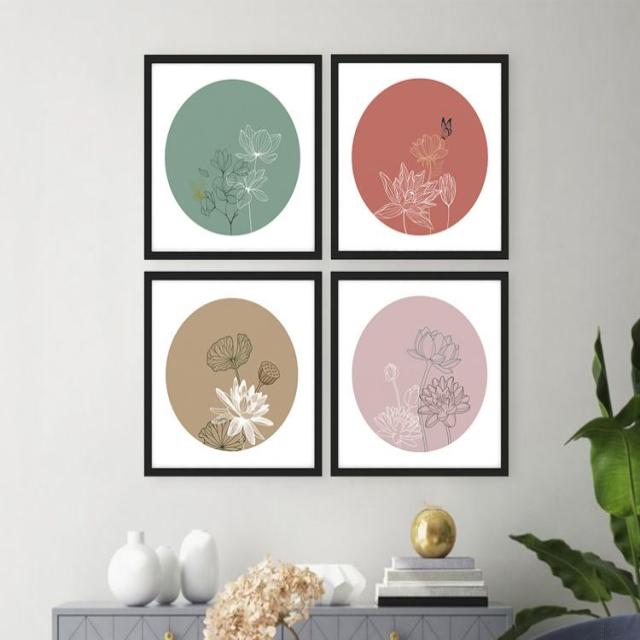painting: (331, 55, 510, 262), (332, 272, 511, 479), (143, 53, 321, 260), (145, 270, 323, 476)
